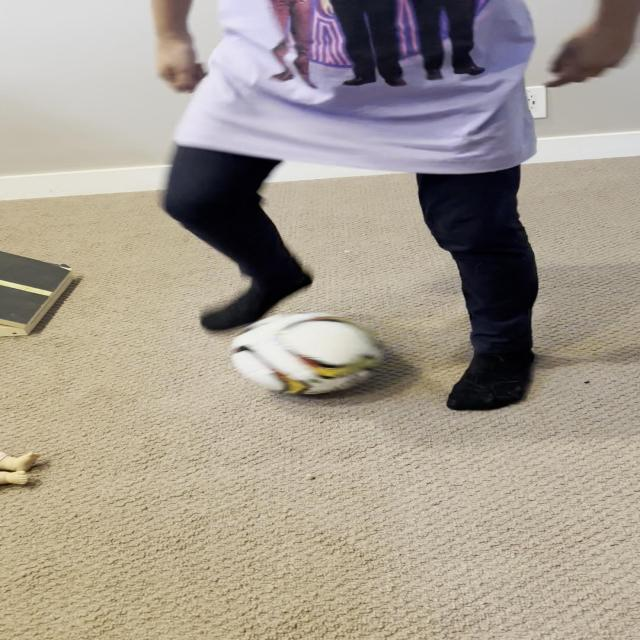Soccer Ball: (231, 311, 386, 395)
